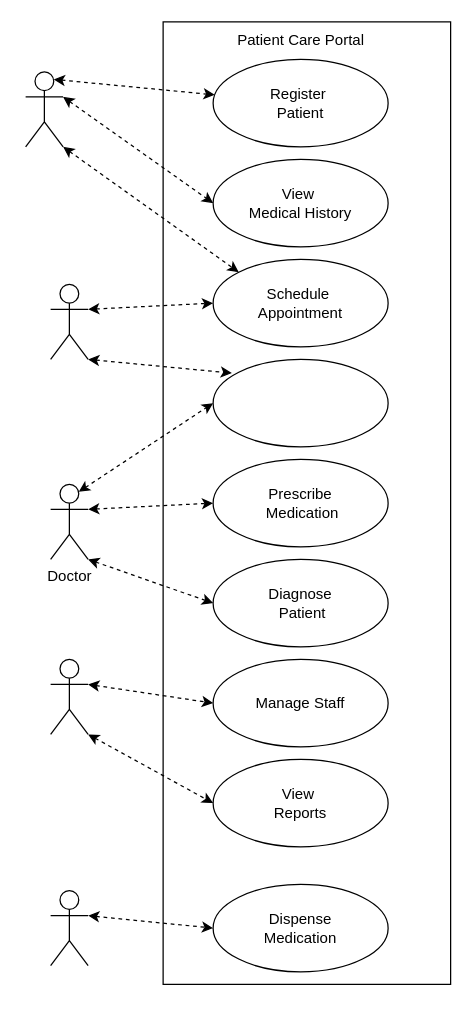
Some shapes in this 473 by 1014 pixel diagram are drawn without their labels. The centre of each missing label's shape, as x and y in pixels:
Admin: point (68, 696)
Manage Patient Records: point (300, 402)
Nurse: point (68, 321)
Patient: point (43, 109)
Pharmacist: point (68, 927)
